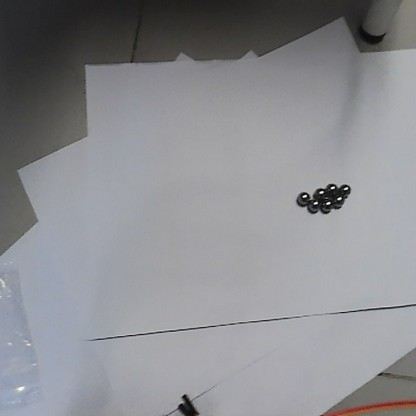ironball: (308, 199, 320, 212), (296, 192, 310, 202), (320, 199, 331, 211), (339, 183, 350, 193), (326, 182, 336, 193), (314, 187, 325, 197), (332, 194, 342, 203)
